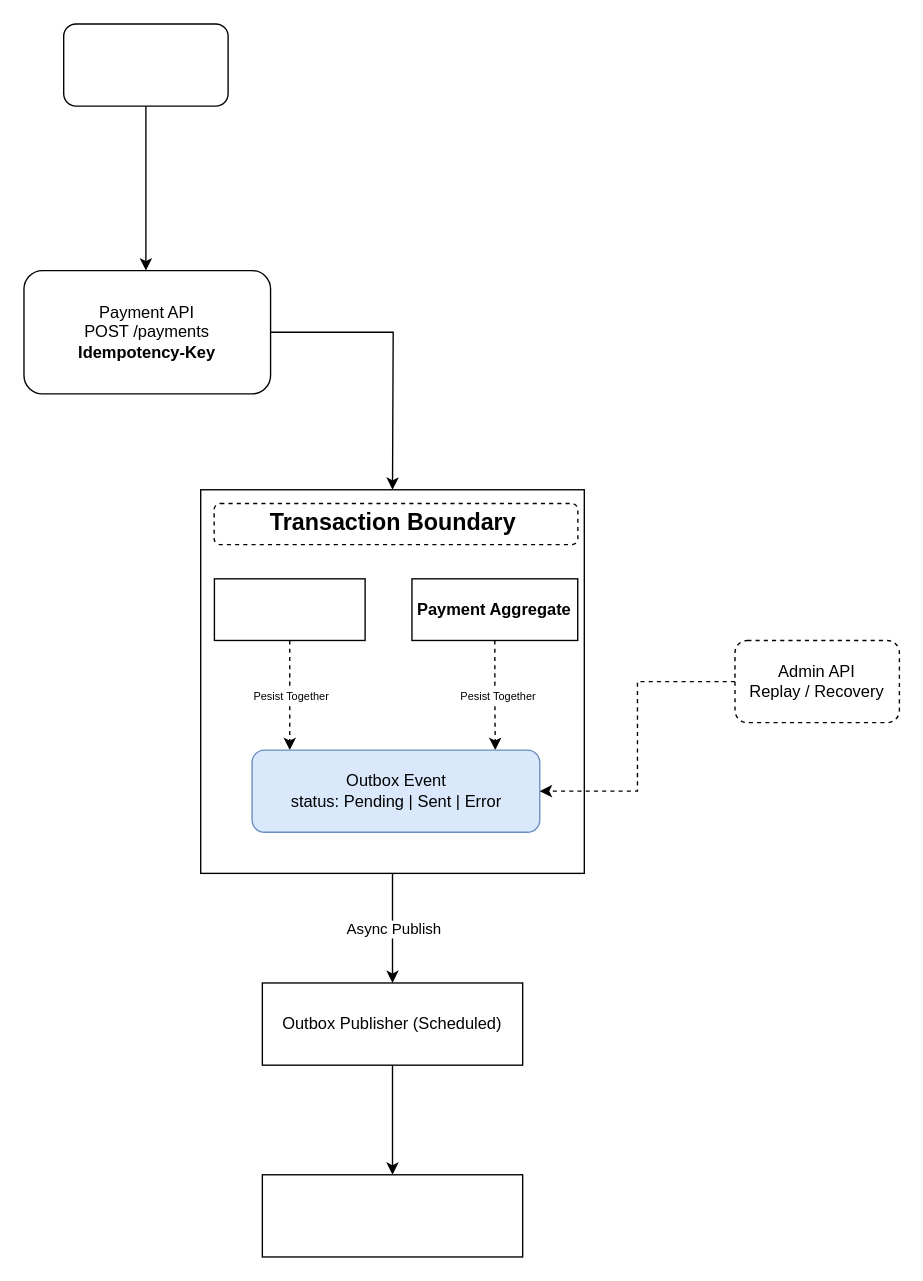
Some shapes in this 923 by 1281 pixel diagram are drawn without their labels. Here are the shapes that lost their labels. From the top down, the centre of each, then its label:
point 145,64: CLIENT
point 289,608: Idempotency Recorrd
point 392,1215: Message Broker ( Mock ) Kafka / SQS / Log
